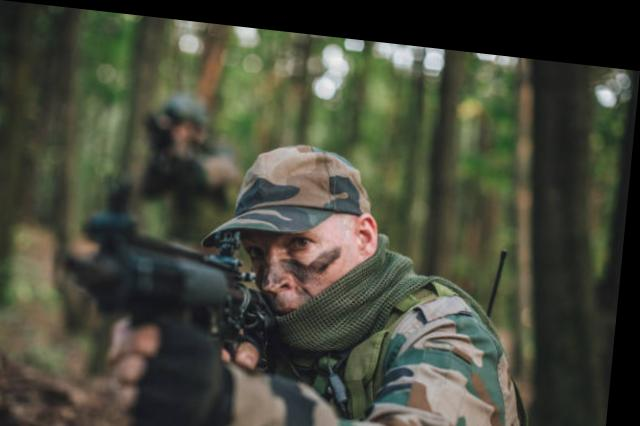other: (184, 122, 470, 424), (94, 79, 247, 233)
